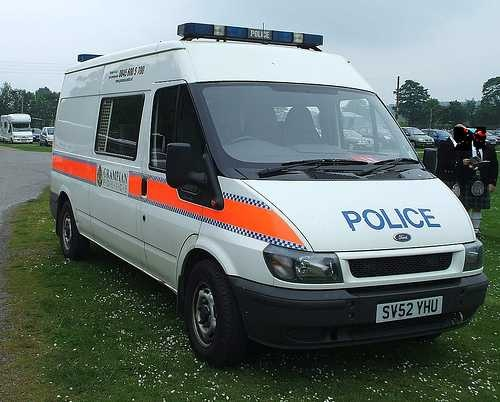Police Van: (52, 17, 481, 364)
